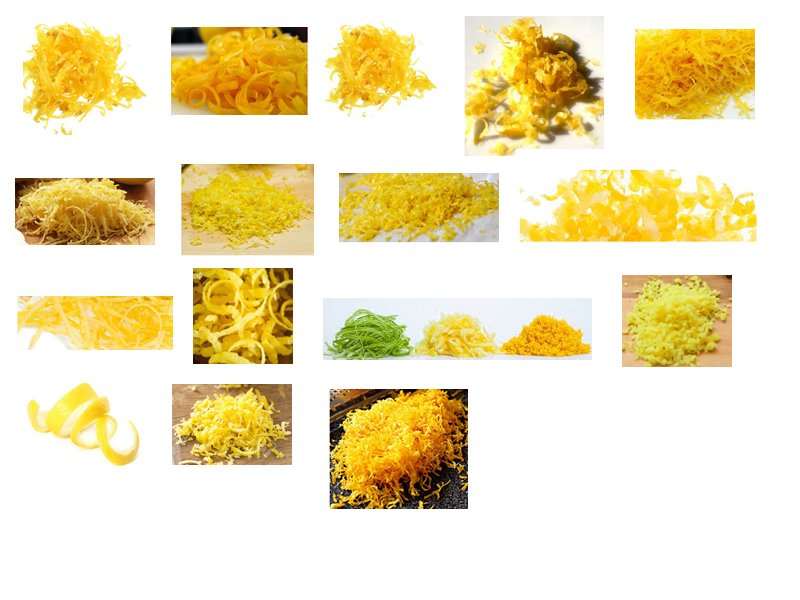lemon zest: (469, 18, 597, 146), (19, 14, 147, 134), (173, 27, 307, 115), (25, 378, 149, 468), (321, 23, 437, 117), (349, 396, 456, 486), (638, 32, 753, 114), (567, 178, 726, 233), (24, 178, 148, 241), (184, 173, 297, 238), (198, 275, 282, 351), (636, 285, 707, 357), (347, 181, 470, 221), (192, 401, 284, 454), (26, 309, 171, 342), (499, 315, 588, 354), (418, 315, 497, 356), (330, 313, 407, 355)
